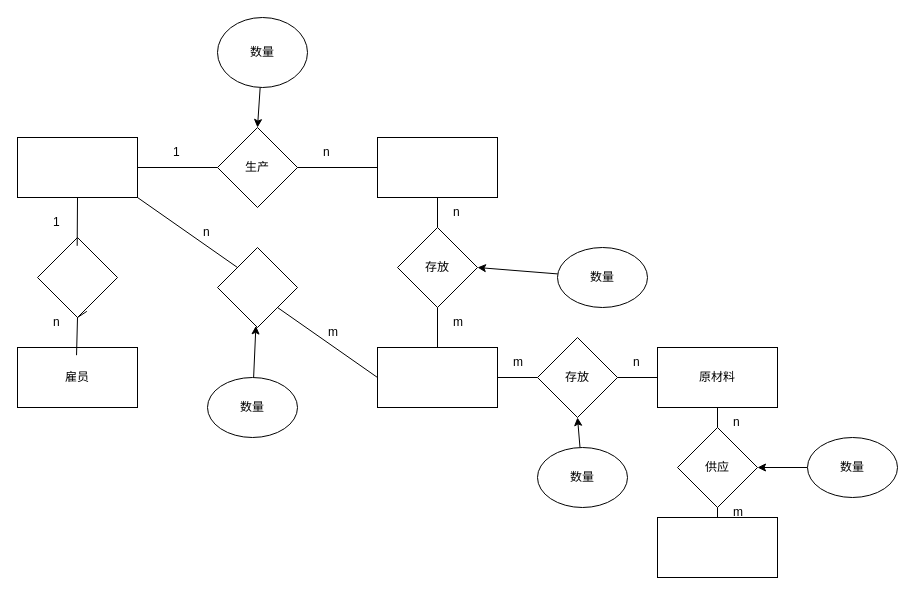
Some shapes in this 915 by 595 pixel diagram are drawn without their labels. The centre of each missing label's shape, as x and y in pixels:
从属: (x=77, y=277)
仓库: (x=437, y=377)
供应商: (x=717, y=547)
成品: (x=437, y=167)
提取: (x=257, y=287)
部门: (x=77, y=167)
